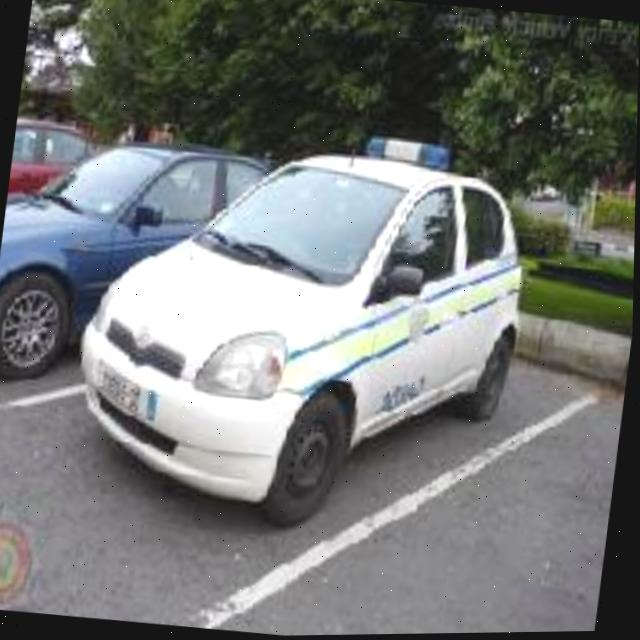emergency: (67, 96, 559, 551)
